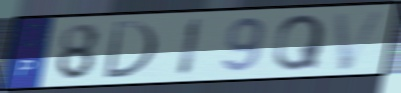8: (55, 22, 101, 82)
9: (220, 15, 268, 75)
D: (100, 19, 160, 81)
I: (174, 16, 206, 78)
Q: (272, 12, 328, 73)
V: (331, 7, 391, 73)
